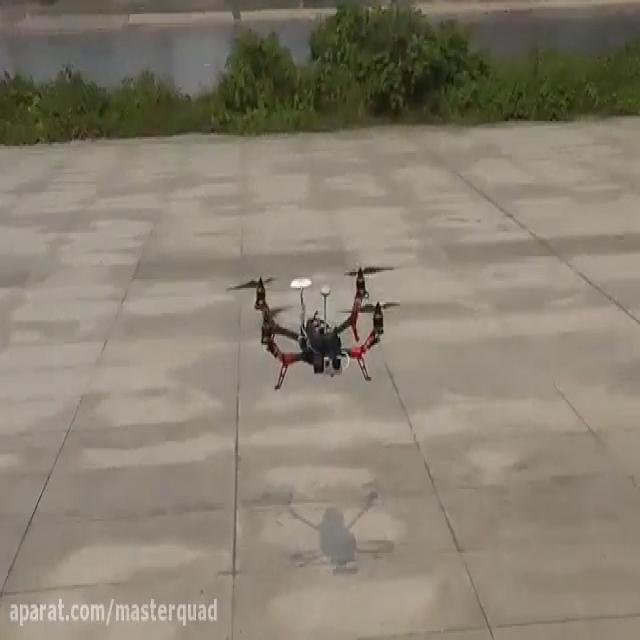drone: (225, 256, 403, 391)
